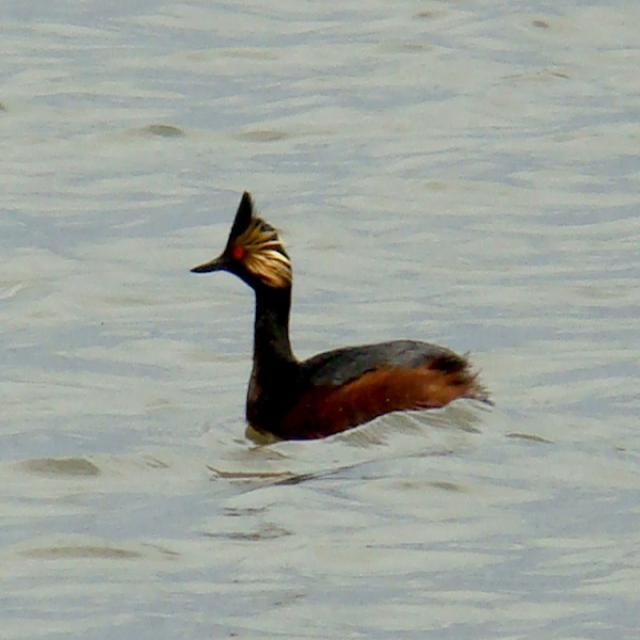bird: (185, 177, 495, 441)
